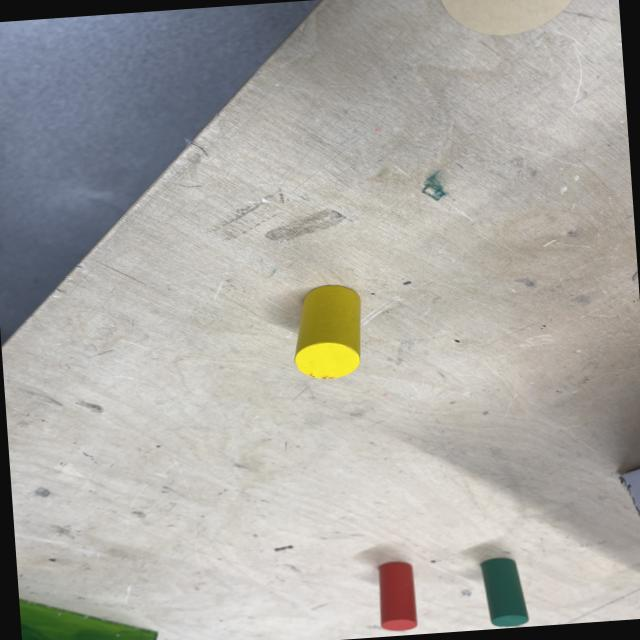yellow_cylinder: (288, 282, 365, 382)
